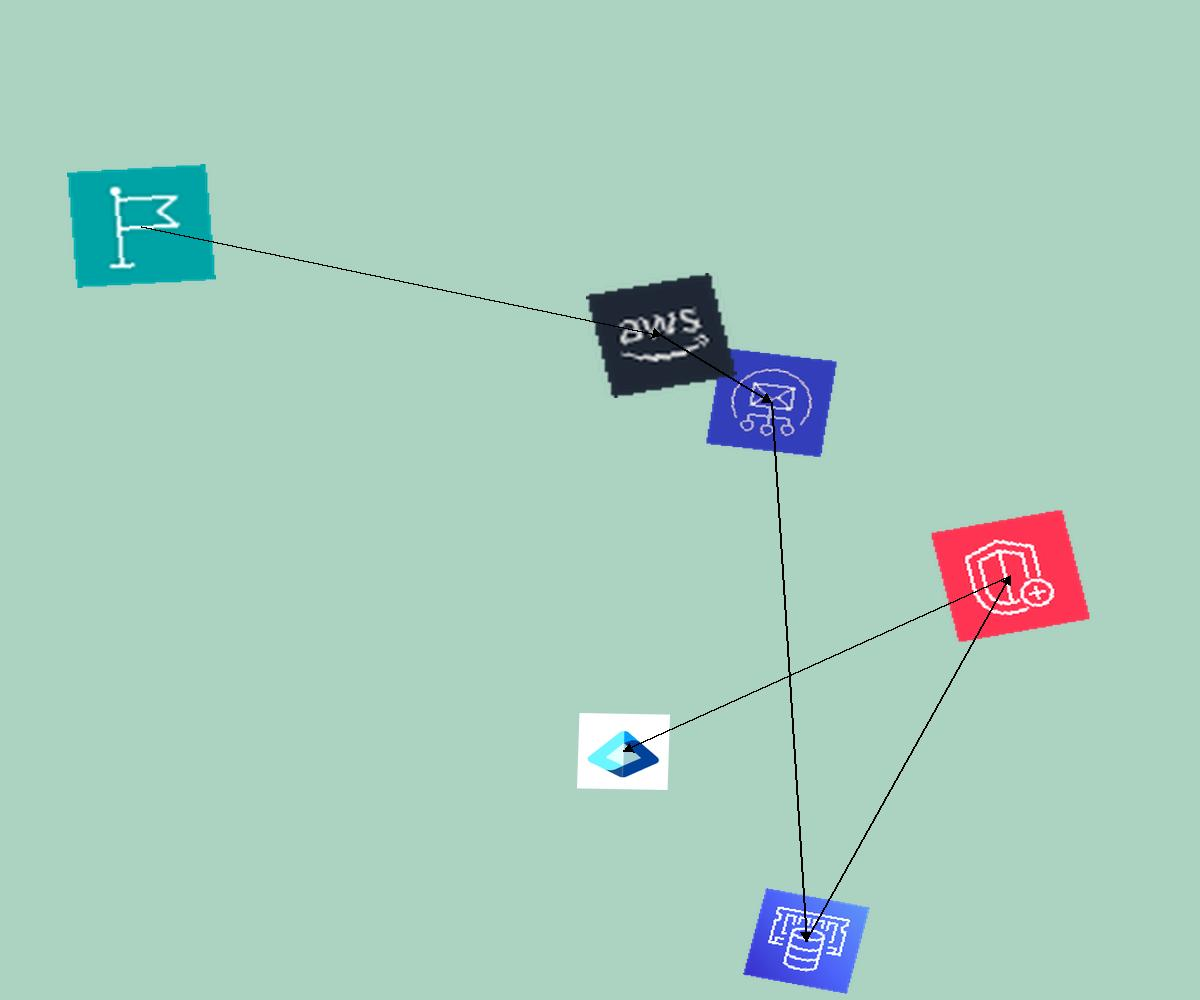AWS-Cloud-logo: (586, 273, 737, 398)
AWS-ElastiCache: (743, 888, 870, 994)
AWS-Region: (67, 164, 216, 288)
AWS-Shield: (930, 509, 1091, 643)
AWS-Simple-Email-Service: (705, 347, 838, 458)
Azure_microsoft_entra: (577, 713, 670, 790)
